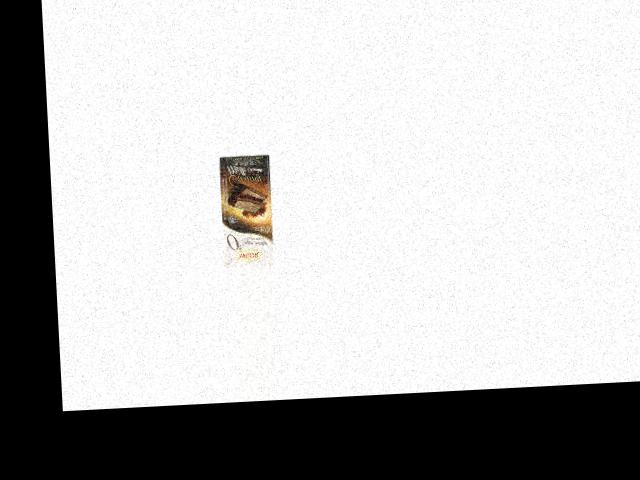chocolate: (215, 153, 276, 268)
